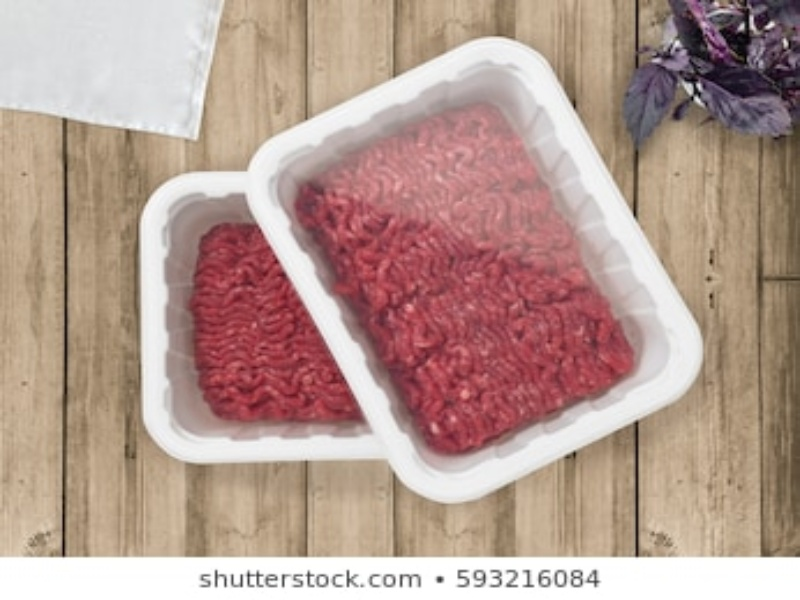plastic-tray: (250, 35, 709, 505), (132, 167, 399, 474)
